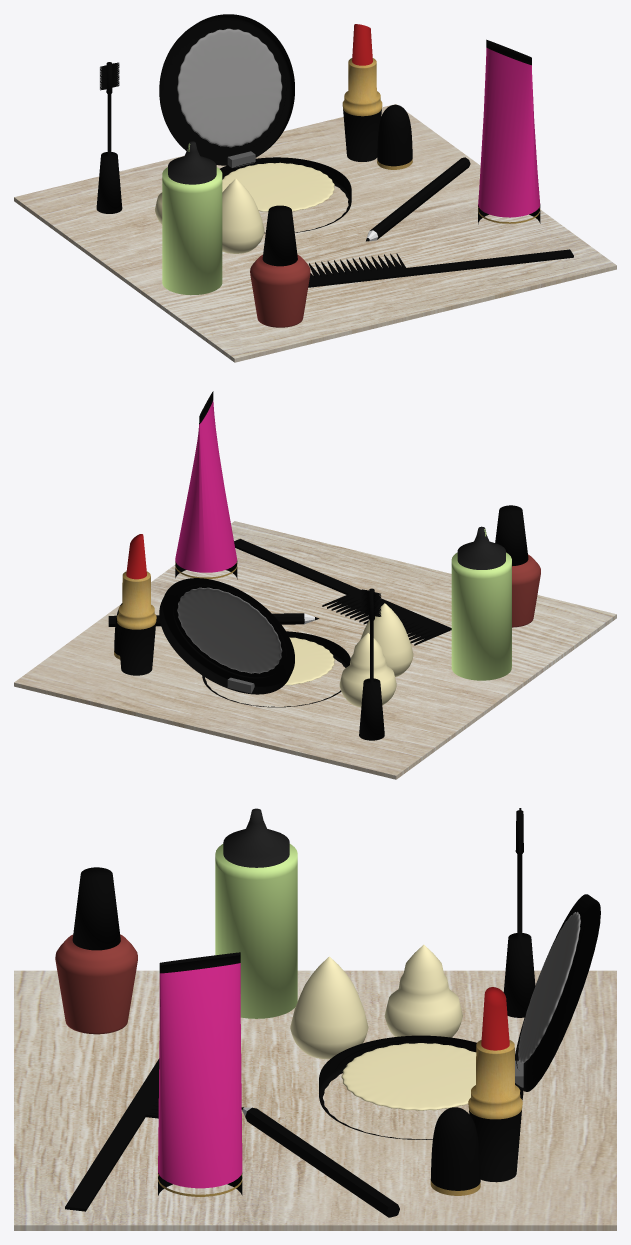
Rendered from makeup.glb.
3 renders of one model, top to bottom at view 1: azimuth 30°, elevation 25°; view 2: azimuth 150°, elevation 25°; view 3: azimuth 270°, elevation 25°, orthographic. The views are drawn at different scales.
Parts seen in each view (by area): view 1: Plane, makeup.001, Circle, bottle, mirror, lipstick, makeup, Plane.001, bottle.001, Cylinder, cap.001, Cylinder.002 (+3 smaller); view 2: Plane, bottle, Circle, makeup.001, mirror, lipstick, Plane.001, Cylinder.001, Cylinder, Cylinder.002, bottle.001, makeup (+3 smaller); view 3: Plane, Circle, bottle, makeup, lipstick, bottle.001, Cylinder, Cylinder.001, mirror, cap.001, makeup.001, Plane.001 (+4 smaller).
Boxes of the visible parts, x1,y1,x2,y2 form: Plane: (14, 104, 616, 362); makeup.001: (177, 28, 282, 147); Circle: (478, 39, 540, 224); bottle: (162, 141, 222, 295); mirror: (159, 14, 294, 165); lipstick: (342, 24, 382, 161); makeup: (222, 162, 334, 211); Plane.001: (308, 249, 573, 287); bottle.001: (250, 254, 310, 327); Cylinder: (222, 179, 264, 253); cap.001: (377, 104, 412, 169); Cylinder.002: (96, 62, 122, 213); Plane: (14, 521, 616, 779); bottle: (451, 526, 511, 680); Circle: (175, 391, 237, 579); makeup.001: (177, 587, 282, 673); mirror: (159, 578, 294, 694); lipstick: (116, 534, 156, 675); Plane.001: (234, 539, 451, 645); Cylinder.001: (339, 633, 396, 707); Cylinder: (360, 603, 413, 676); Cylinder.002: (359, 588, 384, 740); bottle.001: (512, 554, 540, 627); makeup: (284, 637, 334, 685); Plane: (14, 970, 616, 1230); Circle: (158, 952, 242, 1196); bottle: (215, 808, 297, 1018); makeup: (341, 1043, 476, 1110); lipstick: (468, 987, 522, 1182); bottle.001: (55, 934, 137, 1034); Cylinder: (290, 956, 368, 1059); Cylinder.001: (384, 944, 462, 1037); mirror: (515, 894, 600, 1091); cap.001: (430, 1107, 480, 1195); makeup.001: (518, 912, 580, 1063); Plane.001: (65, 1058, 159, 1211).
Bounding box in the file's own units: 275 × 124 × 275.
Materials: 19 (3 with a texture image).
